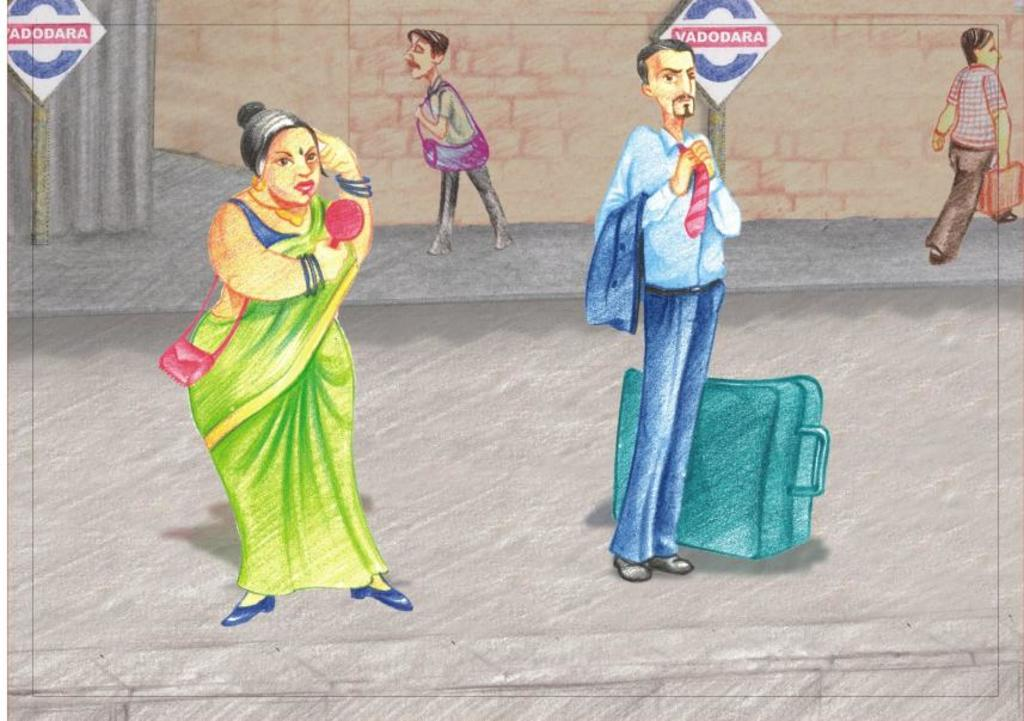person: (397, 25, 514, 256)
